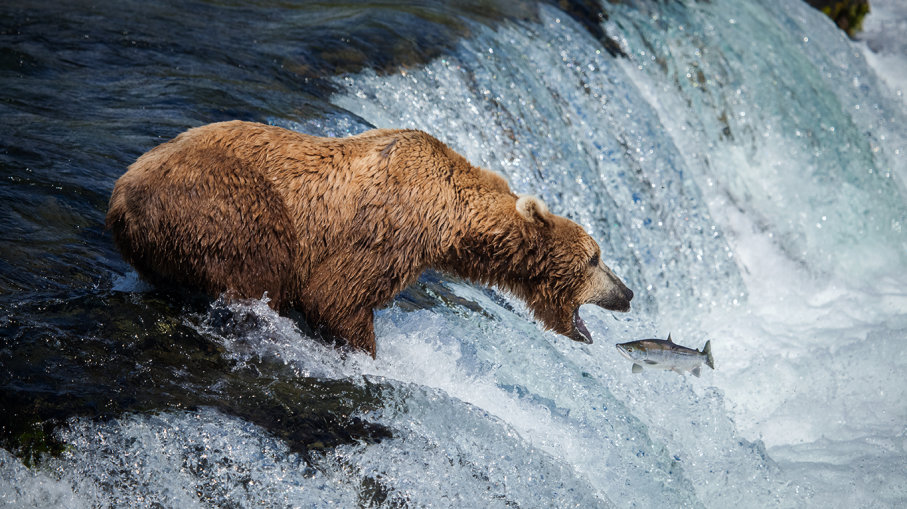bear: (510, 189, 638, 348)
